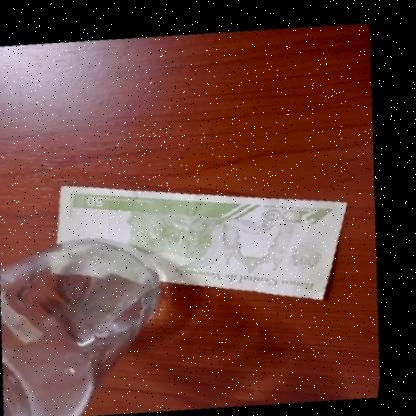fifty-back-vef: (53, 178, 352, 301)
